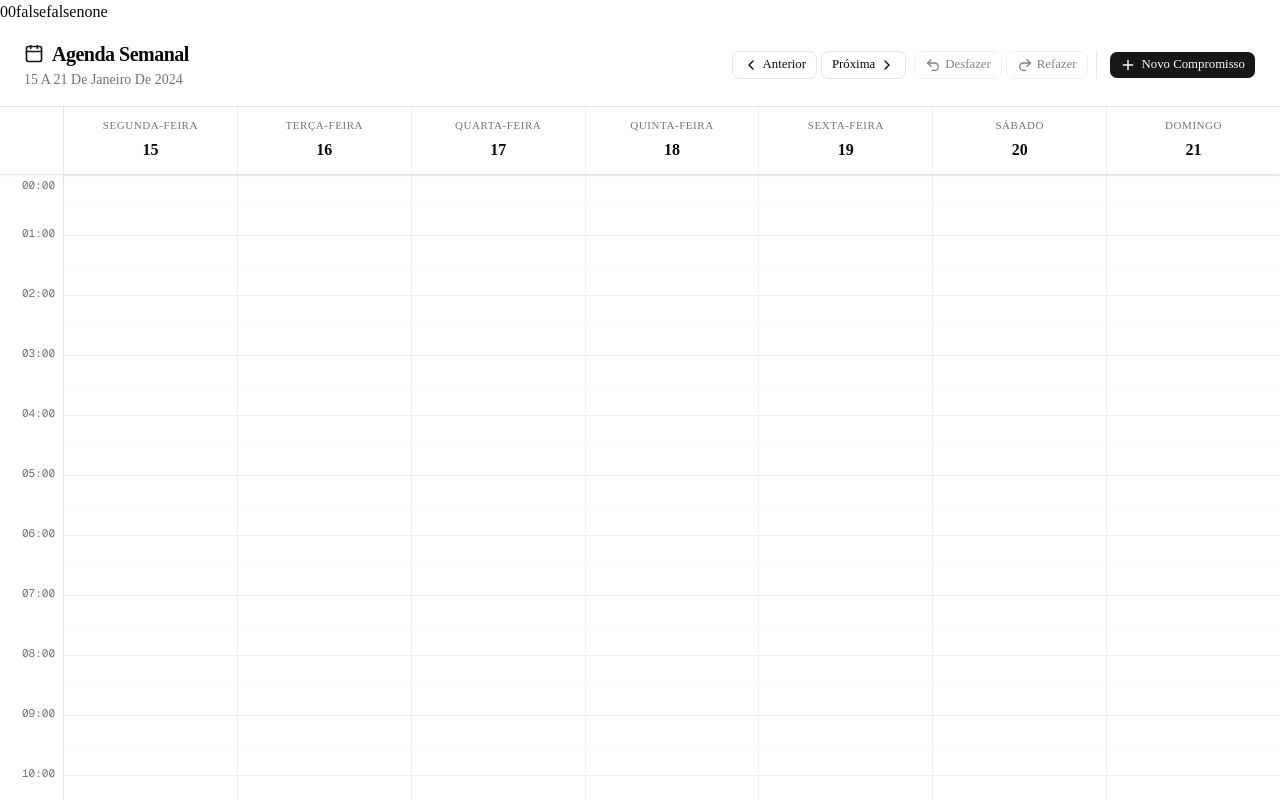
Appointment CRUD & Selection Integration › disables submit button and shows live error on both fields when end time is set before start time
Click the button with aria-label "Adicionar novo compromisso".
click(1182, 65)  # box [1108,51,1256,79]
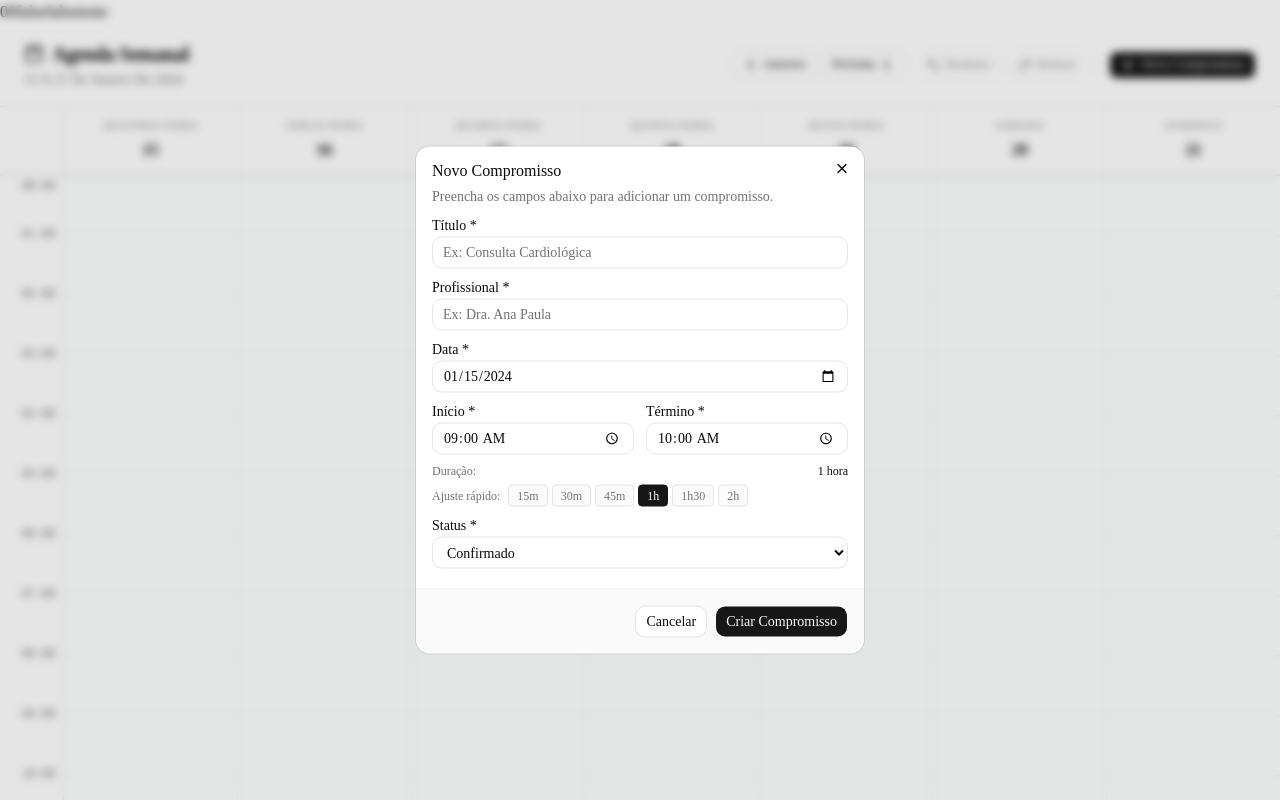
Now the button "Criar Compromisso" is enabled, box [715,606,848,638]
// Manually set end time to 08:00 (before 09:00 start time)
Replace the text in the time field labelled "Término *" with "08:00" at (747, 438), box [646,422,848,454]
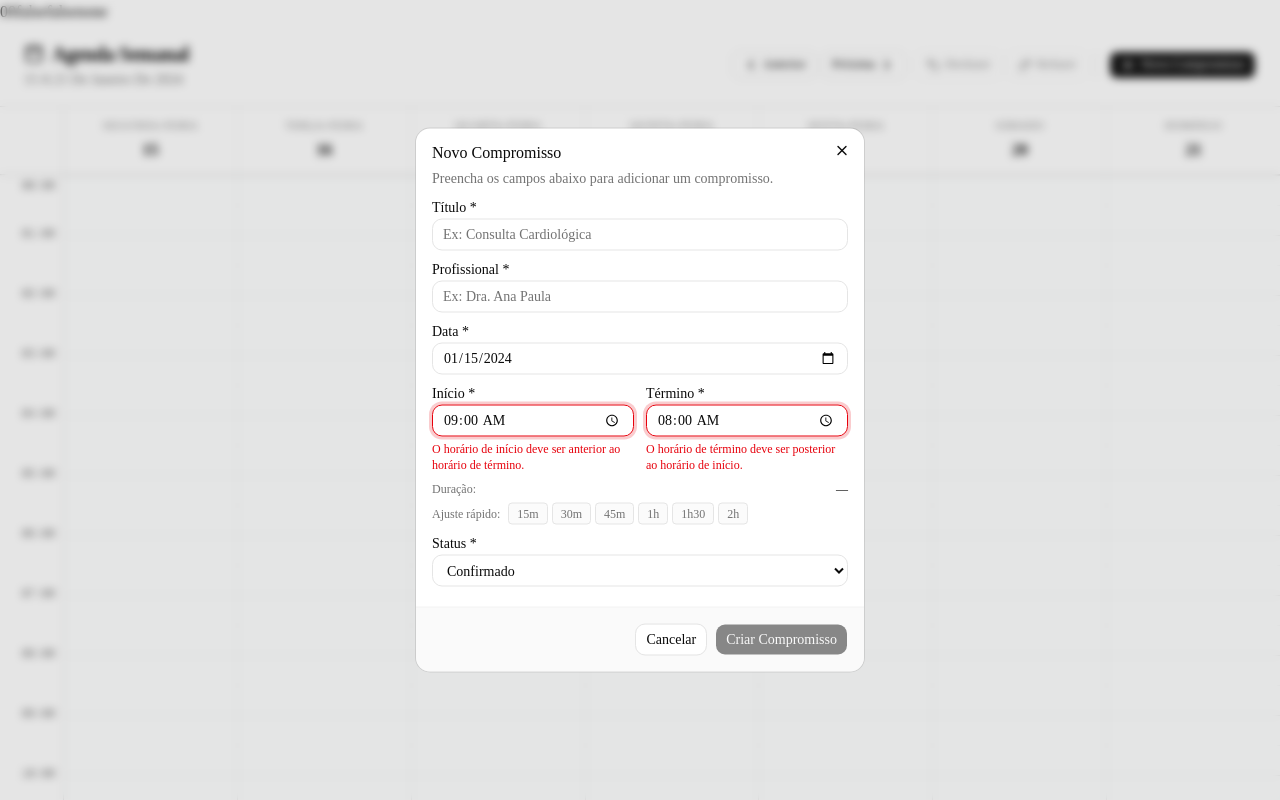
Now the button "Criar Compromisso" is disabled, box [715,624,848,656]
Now the text "O horário de início deve ser anterior ao horário de término." is shown, box [432,440,634,472]
Now the text "O horário de término deve ser posterior ao horário de início." is shown, box [646,440,848,472]
// Fixing end time restores valid state and re-enables submit button
Replace the text in the time field labelled "Término *" with "10:30" at (747, 420), box [646,404,848,436]
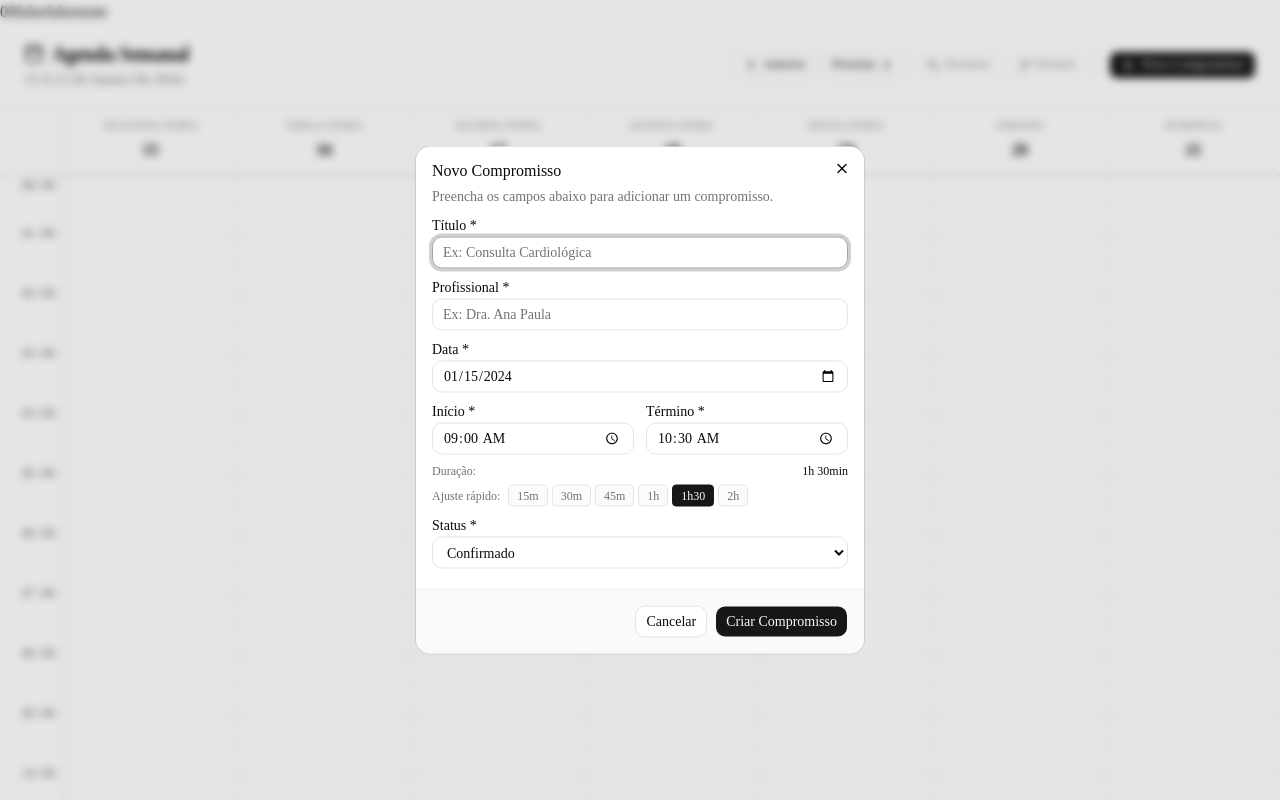
Now the button "Criar Compromisso" is enabled, box [715,606,848,638]
